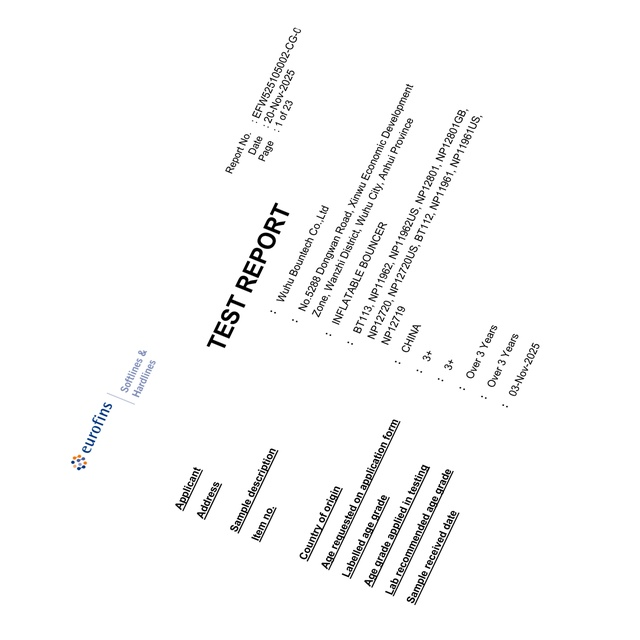eurofins: (68, 399, 115, 477)
